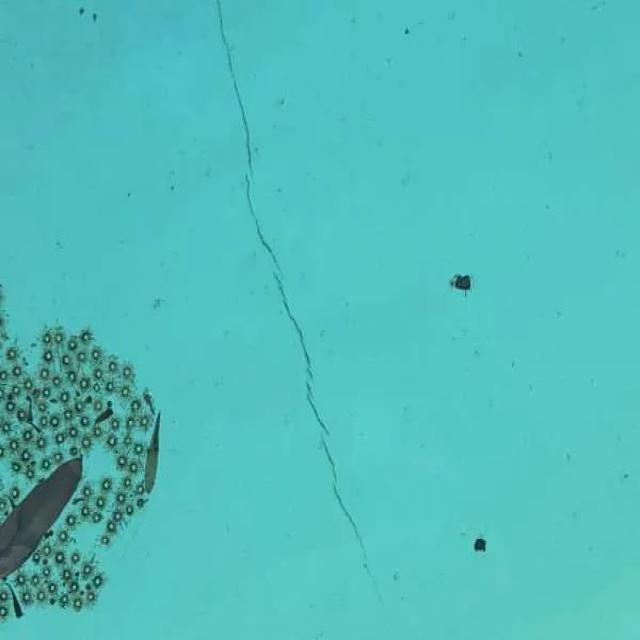crack: (209, 0, 394, 609)
